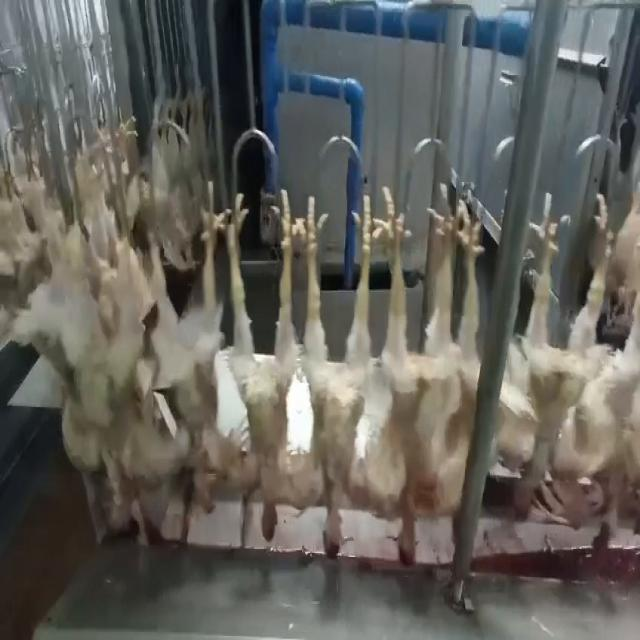chicken: (373, 180, 485, 566), (292, 181, 384, 564), (554, 186, 640, 516), (224, 183, 298, 544), (488, 198, 560, 517), (110, 210, 166, 531), (170, 187, 222, 516)
